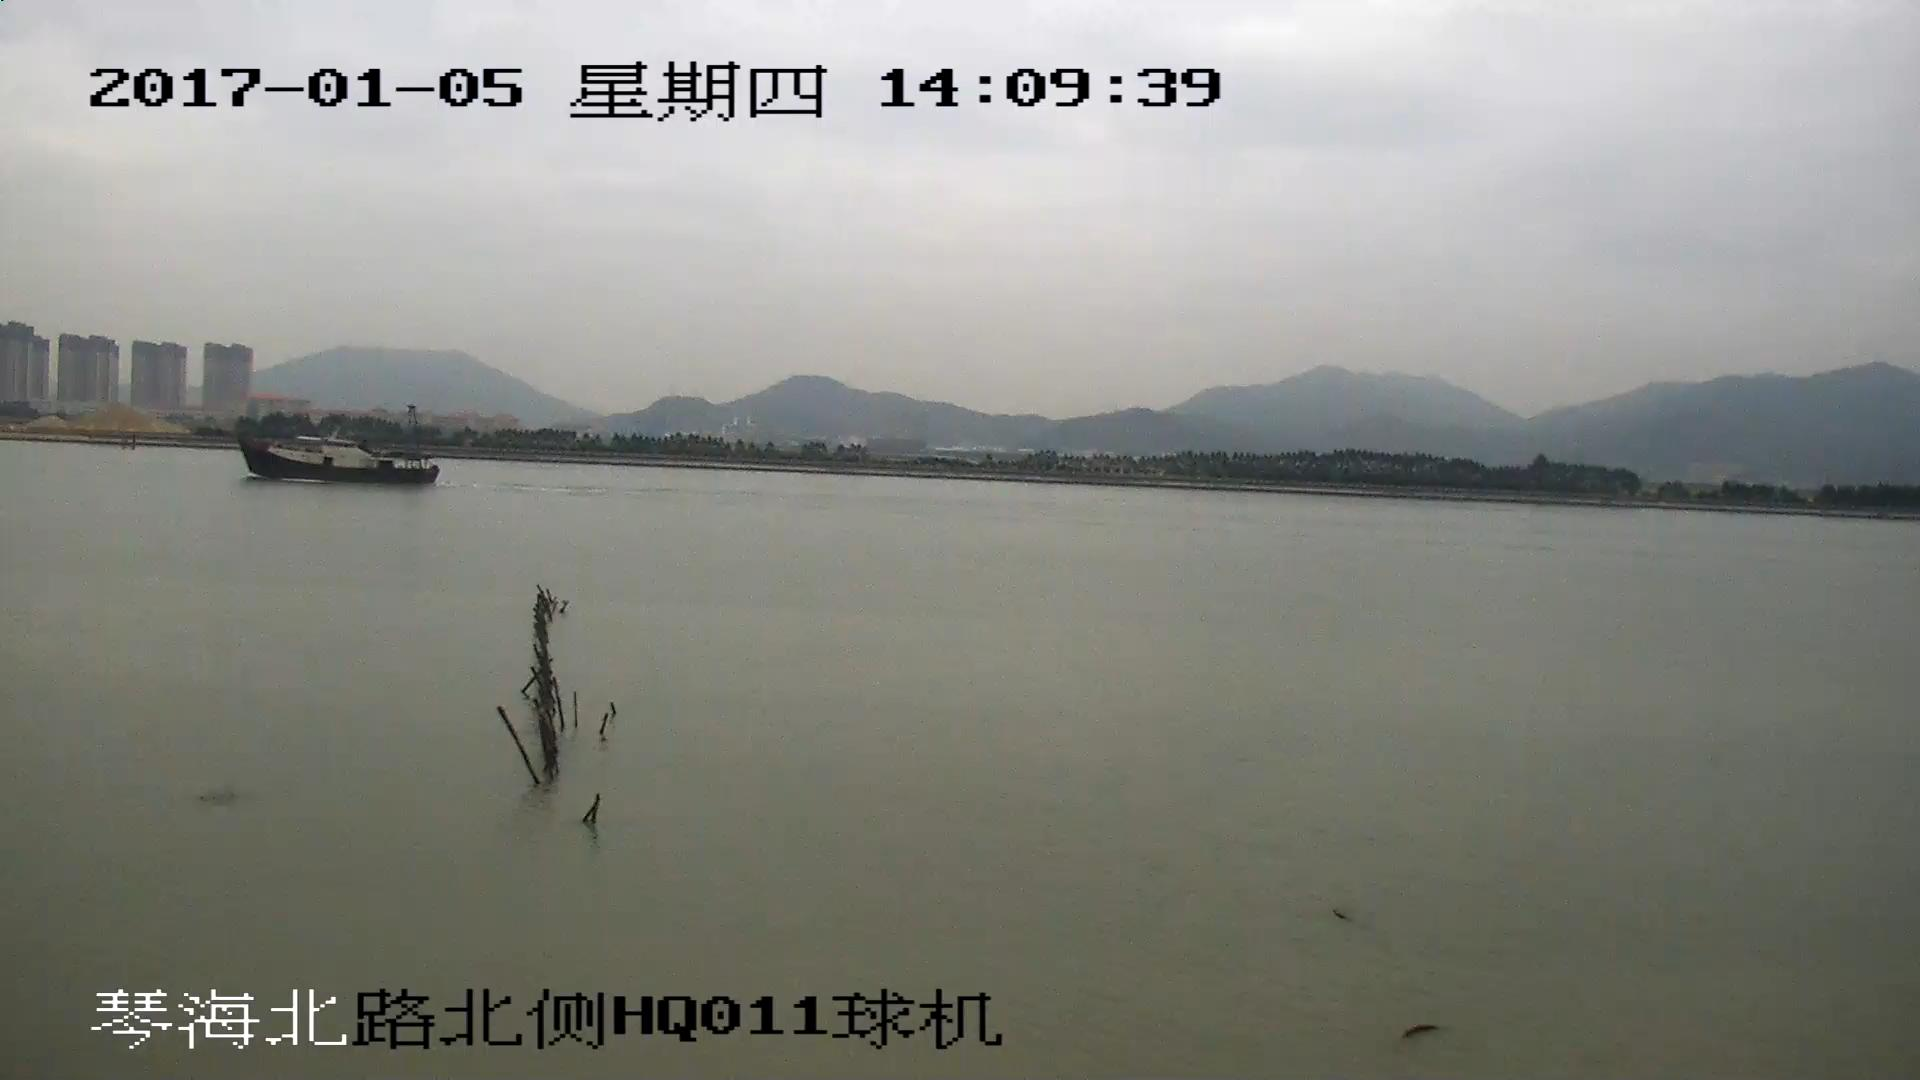fishing boat: (237, 397, 441, 486)
